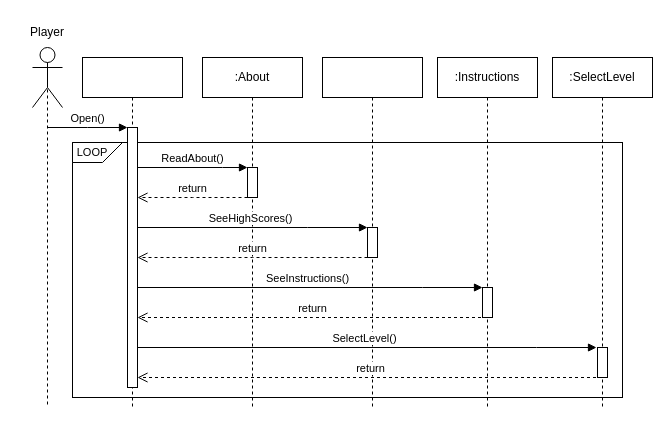
Image size: 670x426. Some labels were removed from this diagram. Each missing label, with the box of its shape:
:HighScores: (322, 56, 422, 408)
:MainMenu: (82, 56, 182, 408)
